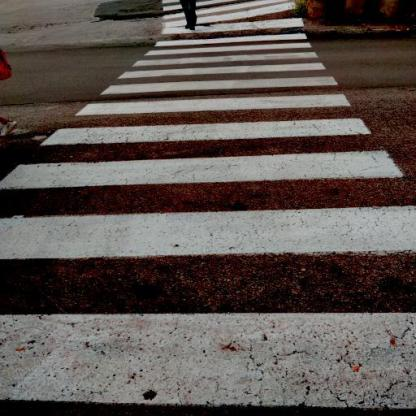crosswalk: (0, 114, 407, 194), (111, 50, 333, 80)
